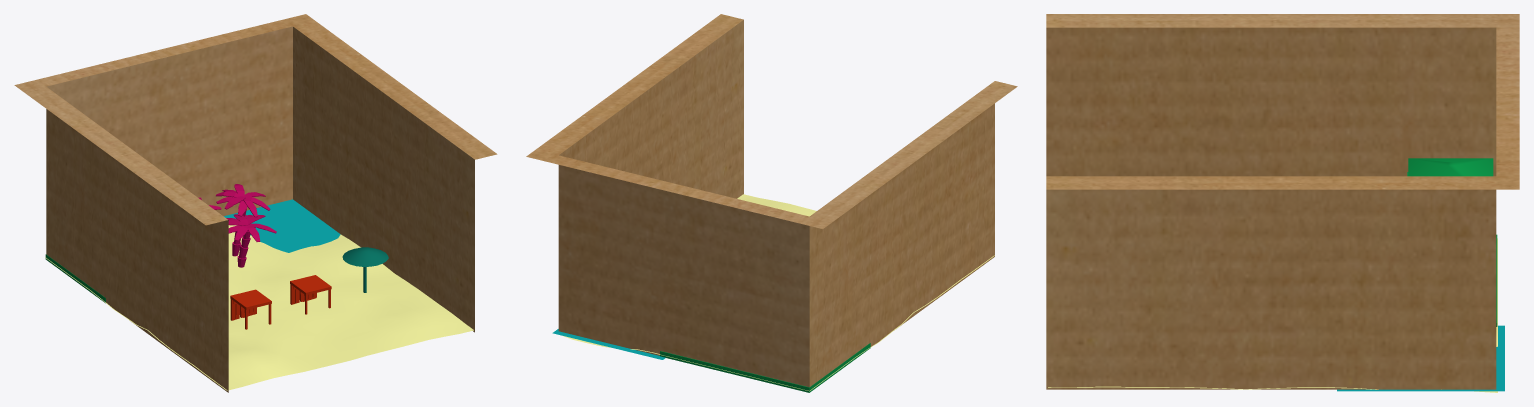
File: tralalero scene finale.fbx
3 views of the same model, side by side, from view 1: azimuth 30°, elevation 25°; view 2: azimuth 150°, elevation 25°; view 3: azimuth 270°, elevation 25° (orthographic). The views are drawn at different scales.
Visible parts, largest first — view 1: cardboard, deserto1, acqua, palm_back1_pCylinder1, palm_back2_pCylinder1, cassone_platform, cassone_platform1, ombrellone_platform; view 2: cardboard, piattaforma_casa, deserto1, acqua; view 3: cardboard, tetto, acqua, deserto1.
Boxes of the visible parts, box(x1,y1,x2,y2) form: cardboard: box(14, 14, 497, 392); deserto1: box(45, 225, 473, 390); acqua: box(224, 199, 340, 252); palm_back1_pCylinder1: box(216, 184, 270, 256); palm_back2_pCylinder1: box(226, 214, 276, 267); cassone_platform: box(230, 289, 271, 329); cassone_platform1: box(290, 275, 331, 314); ombrellone_platform: box(342, 247, 388, 292); cardboard: box(526, 14, 1017, 387); piattaforma_casa: box(660, 343, 870, 392); deserto1: box(562, 194, 994, 391); acqua: box(552, 329, 665, 359); cardboard: box(1046, 14, 1519, 389); tetto: box(1408, 158, 1493, 176); acqua: box(1337, 325, 1504, 391); deserto1: box(1048, 238, 1497, 392).
Size of the model in its own units: 14.91 by 8.72 by 16.96.
